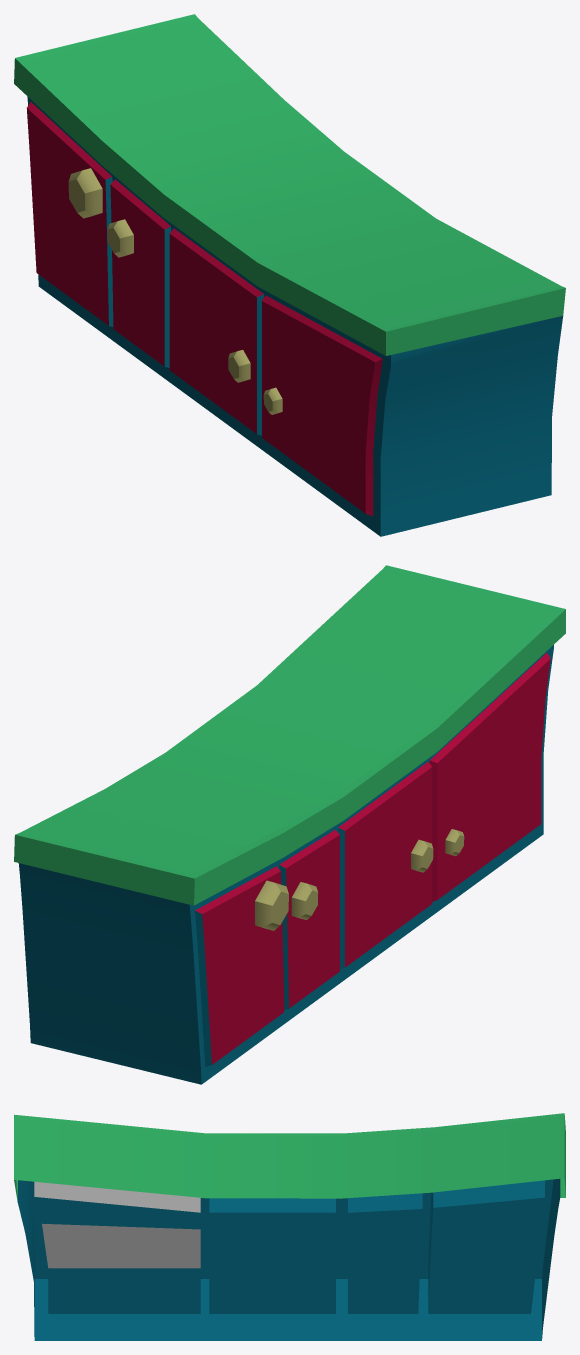
File: kitchencounter_modern.fbx
3 views of the same model, one above another, from view 1: azimuth 30°, elevation 25°; view 2: azimuth 150°, elevation 25°; view 3: azimuth 270°, elevation 25° (orthographic). The views are drawn at different scales.
Visible parts, largest first — view 1: polySurface40, polySurface42, polySurface31, polySurface33, polySurface37, polySurface35, pCylinder8, pCylinder7; view 2: polySurface40, polySurface42, polySurface31, polySurface33, polySurface37, polySurface35, pCylinder8, pCylinder7; view 3: polySurface42, polySurface40, polySurface41, polySurface39.
Part boxes in pixels (x1=…): polySurface40: x1=14, y1=14, x2=565, y2=355; polySurface42: x1=27, y1=96, x2=563, y2=536; polySurface31: x1=262, y1=295, x2=382, y2=516; polySurface33: x1=169, y1=228, x2=263, y2=433; polySurface37: x1=26, y1=102, x2=111, y2=325; polySurface35: x1=110, y1=179, x2=170, y2=366; pCylinder8: x1=68, y1=168, x2=102, y2=218; pCylinder7: x1=107, y1=219, x2=133, y2=257; polySurface40: x1=14, y1=565, x2=565, y2=905; polySurface42: x1=18, y1=645, x2=553, y2=1084; polySurface31: x1=429, y1=653, x2=550, y2=901; polySurface33: x1=338, y1=762, x2=432, y2=967; polySurface37: x1=195, y1=866, x2=284, y2=1064; polySurface35: x1=279, y1=830, x2=339, y2=1008; pCylinder8: x1=255, y1=880, x2=288, y2=930; pCylinder7: x1=291, y1=882, x2=318, y2=920; polySurface42: x1=17, y1=1178, x2=560, y2=1340; polySurface40: x1=14, y1=1113, x2=565, y2=1201; polySurface41: x1=42, y1=1223, x2=200, y2=1268; polySurface39: x1=34, y1=1181, x2=200, y2=1212.
Bounding box in the file's own units: 78.76 × 85.9 × 264.
